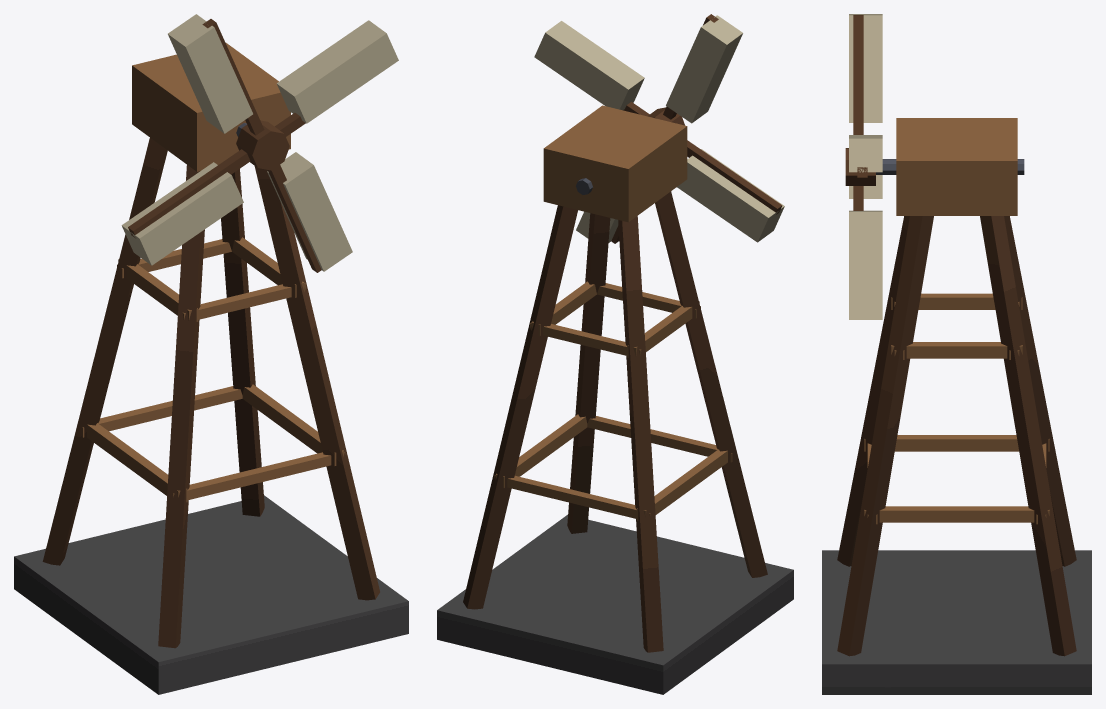
Rendered from turbine.glb.
3 views of the same model, side by side, from view 1: azimuth 30°, elevation 25°; view 2: azimuth 150°, elevation 25°; view 3: azimuth 270°, elevation 25° (orthographic). The views are drawn at different scales.
Bounding box in the file's own units: 0.8406 × 1.96 × 0.8.
Materials: 1 (1 with a texture image).
